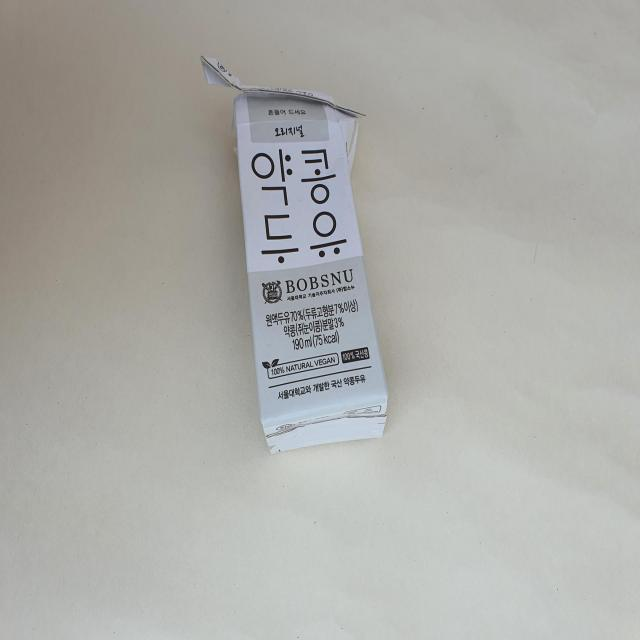paperpack: (202, 56, 388, 453)
